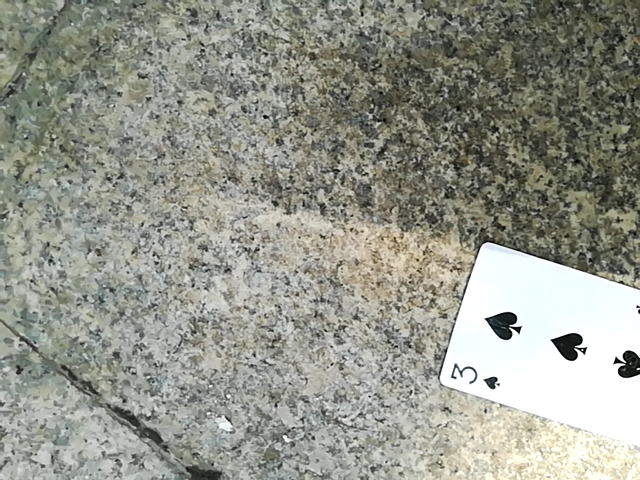ht 3: (439, 238, 640, 449)
